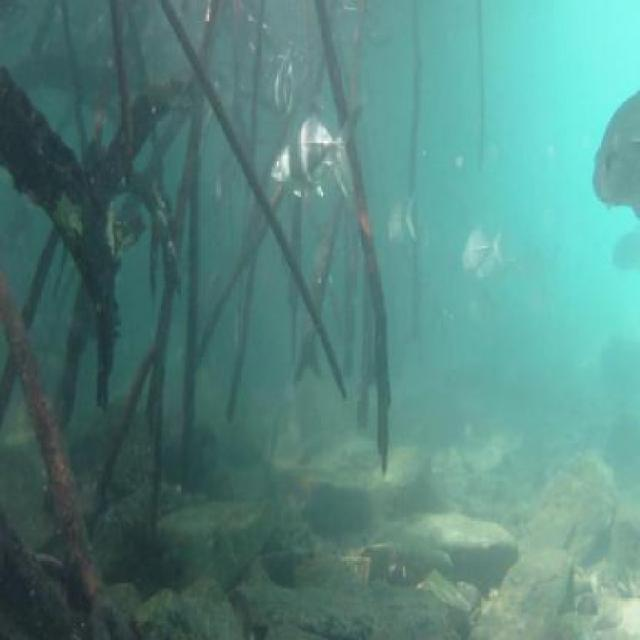Caranx_sexfasciatus_juvenile: (258, 129, 357, 197), (589, 91, 640, 218), (286, 104, 354, 191), (491, 212, 562, 288), (266, 49, 303, 138), (385, 186, 426, 263), (601, 224, 640, 287), (454, 218, 488, 276), (465, 278, 501, 330), (211, 159, 232, 215)
